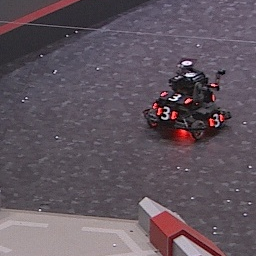Red: (159, 90, 191, 106), (156, 106, 177, 122), (209, 111, 224, 128)
Robot: (139, 56, 231, 141)
